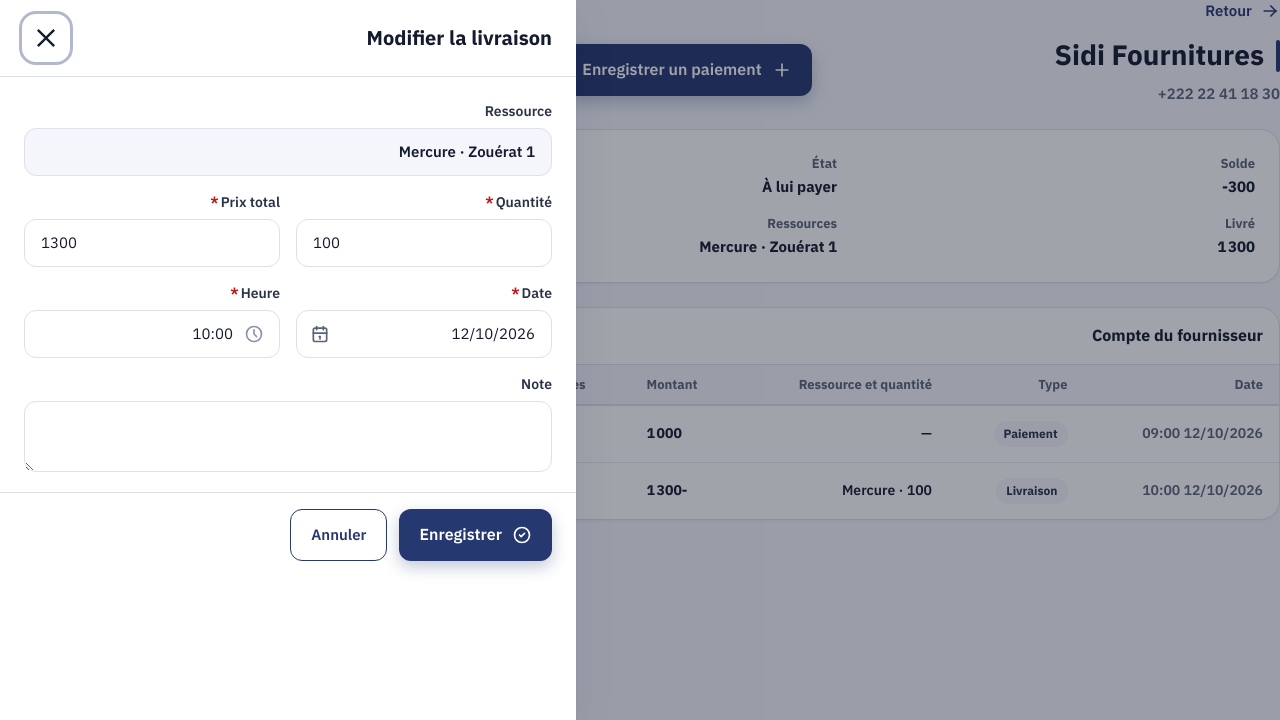
it: SupplierScreen › shows the backend's refusal on the delivery's quantity
Replace the text in the number field labelled "Quantité" with "20" at (424, 243), box [296,219,552,267]
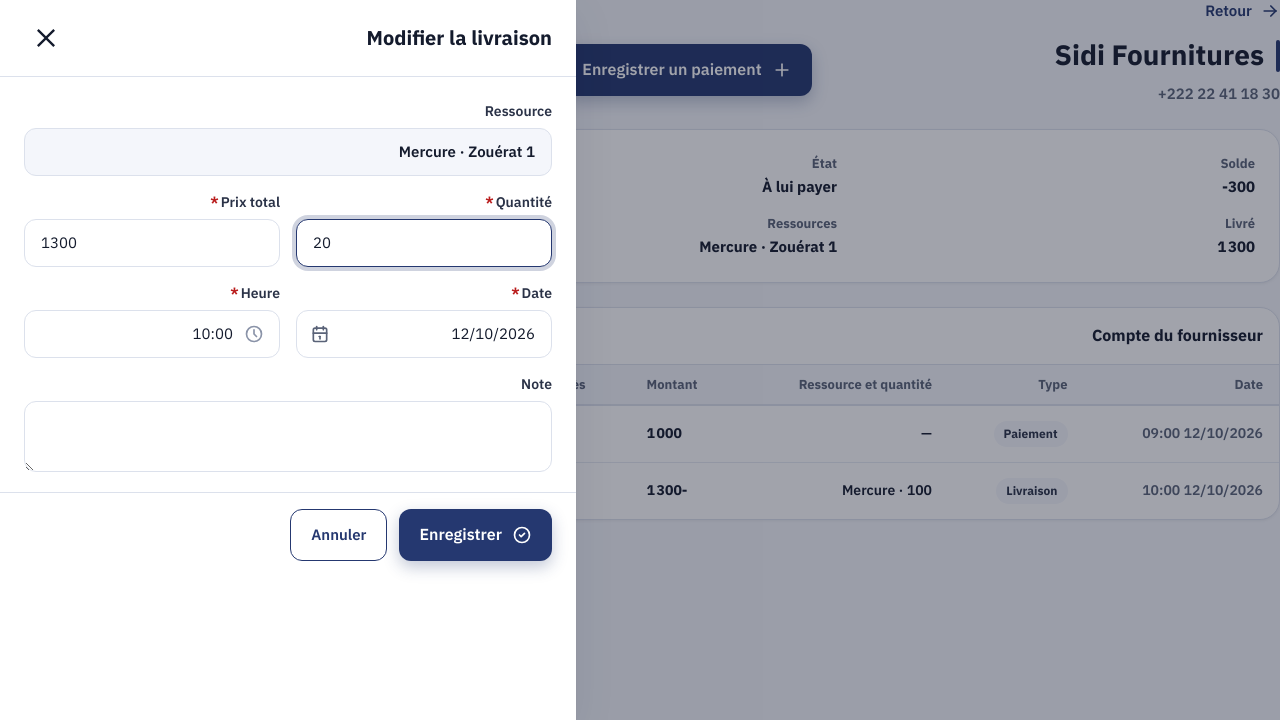
Click the button "Enregistrer" at (476, 535), box [400,509,552,561]
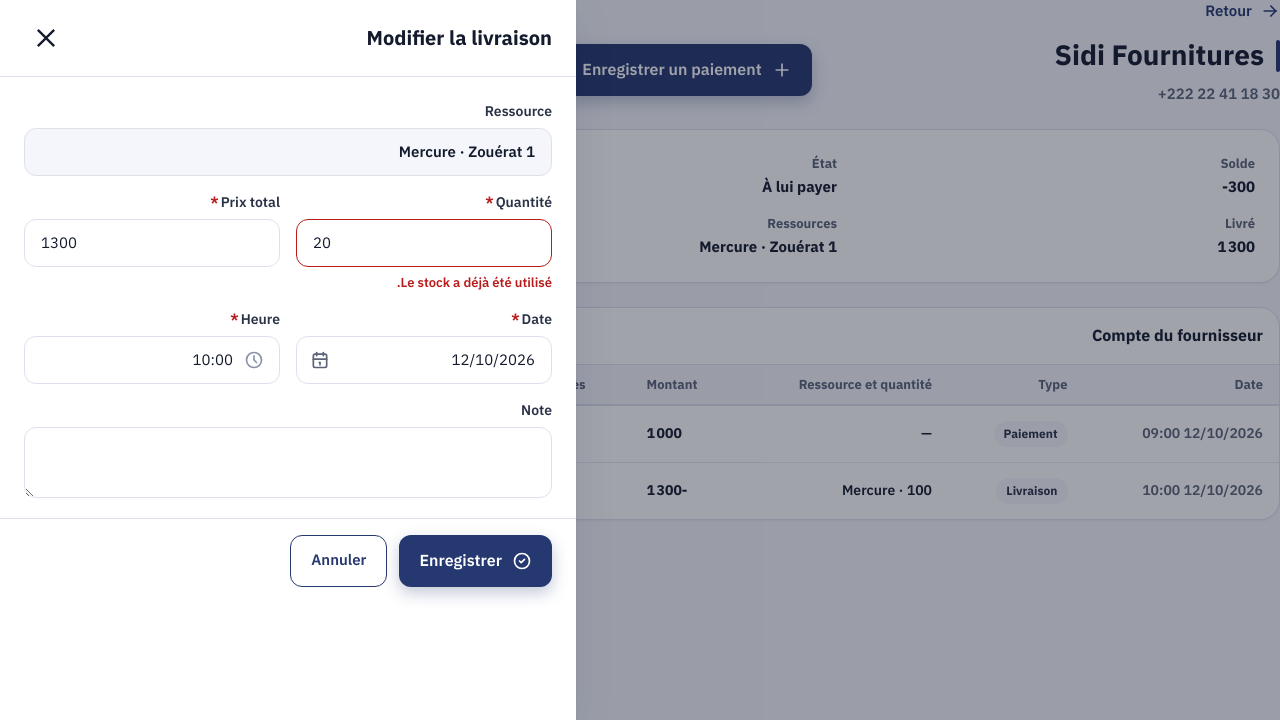
Expected: the text "Le stock a déjà été utilisé." is shown, [397,273,552,292]
